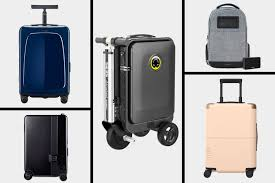suitcase: (93, 32, 179, 149), (14, 2, 75, 103), (203, 79, 259, 177), (19, 112, 70, 182)
